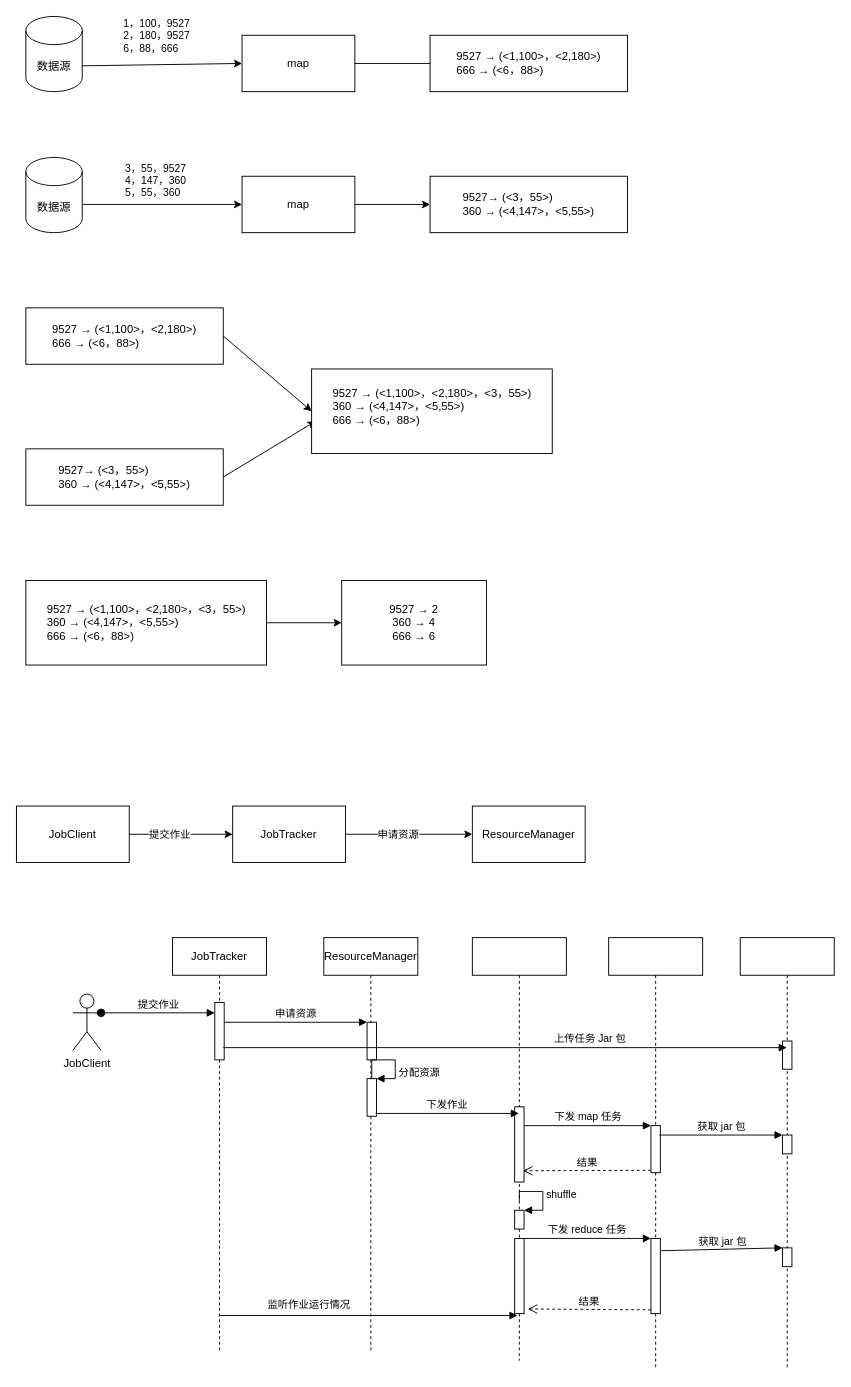
The diagram is 851 pixels wide and 1387 high, and some of its shapes have lost their labels. Each missing label, with the box of its shape:
DataNode: (739, 937, 834, 1370)
MRAppMaster: (471, 937, 566, 1361)
NodeManager: (608, 937, 703, 1370)
